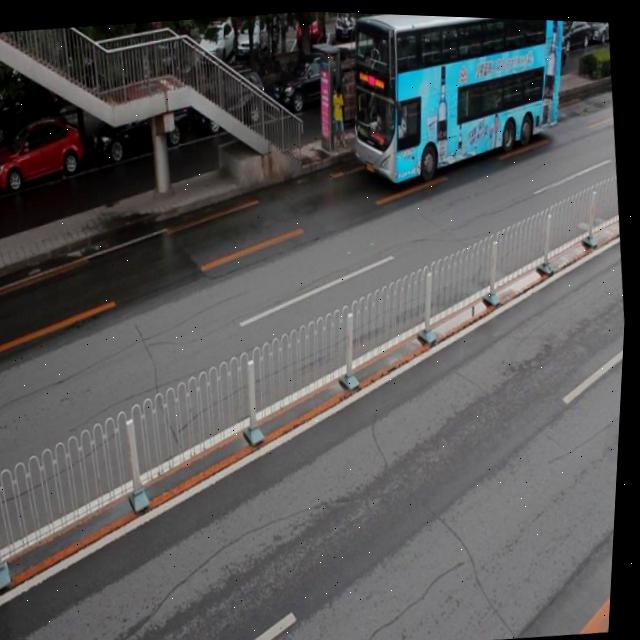car: (88, 92, 194, 165), (0, 112, 89, 196), (266, 47, 356, 121), (191, 65, 269, 134), (498, 29, 554, 90)
van: (337, 10, 577, 191)
